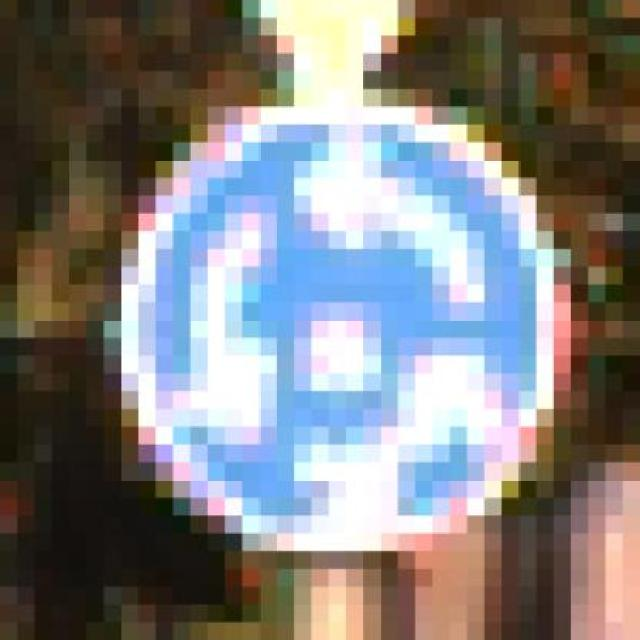Round-About: (69, 71, 606, 587)
